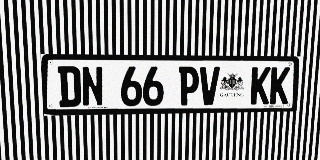6: (121, 66, 142, 106), (143, 66, 164, 106)
D: (57, 66, 81, 107)
K: (250, 67, 271, 104), (269, 67, 290, 104)
N: (81, 66, 104, 107)
P: (178, 66, 199, 105)
V: (199, 67, 220, 105)
